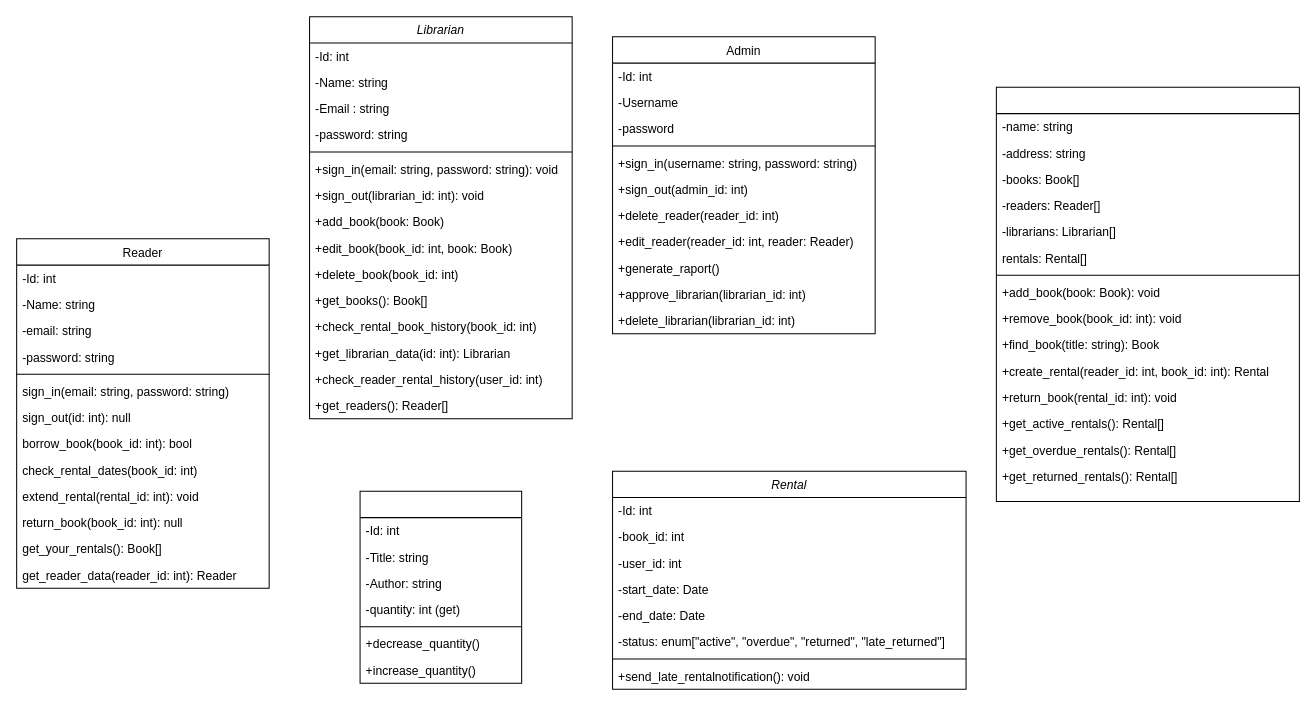
Some shapes in this 1316 by 706 pixel diagram are drawn without their labels. Each missing label, with the box of its shape:
Book: (359, 490, 522, 683)
Library: (995, 86, 1299, 501)
